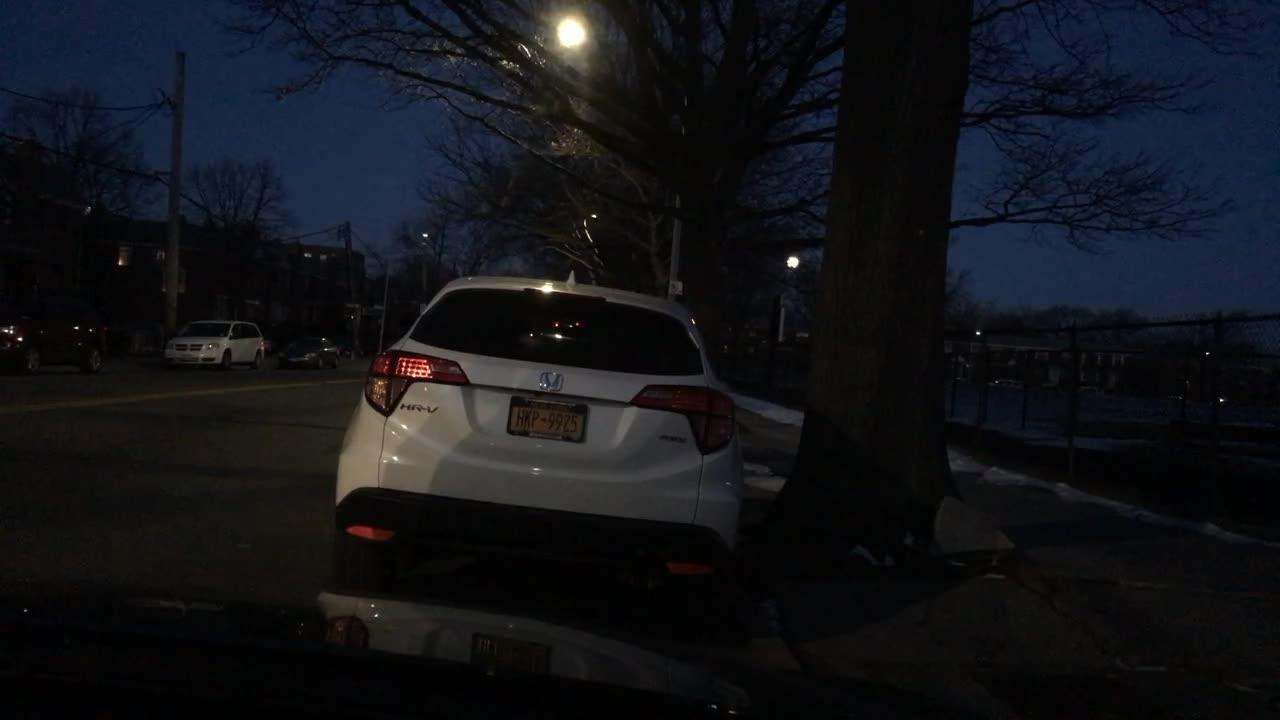Honda: (533, 357, 576, 400)
